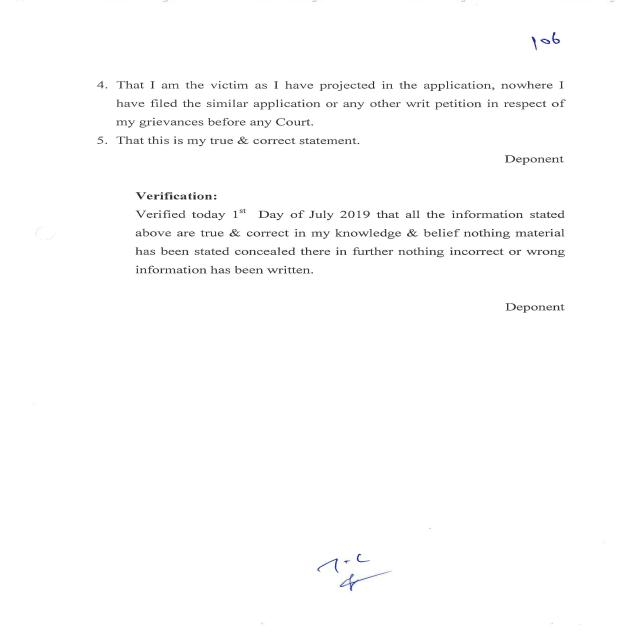page-number: (409, 0, 633, 73)
